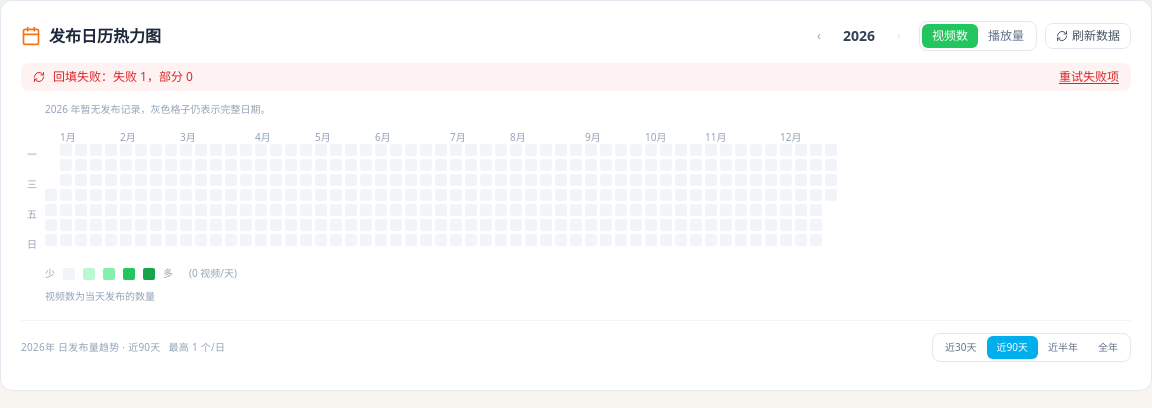
Scenario: calendar retry protocol › shows remaining cooldown seconds
Click the button "重试失败项" at x=1089, y=77, box 1059,69 -> 1119,85
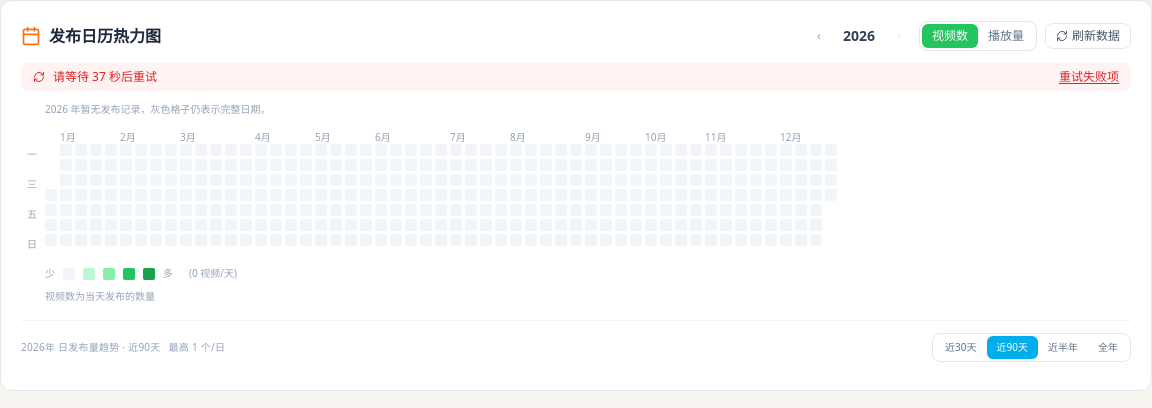
Check: the text "请等待 37 秒后重试" is shown, box 53,69 -> 157,85
